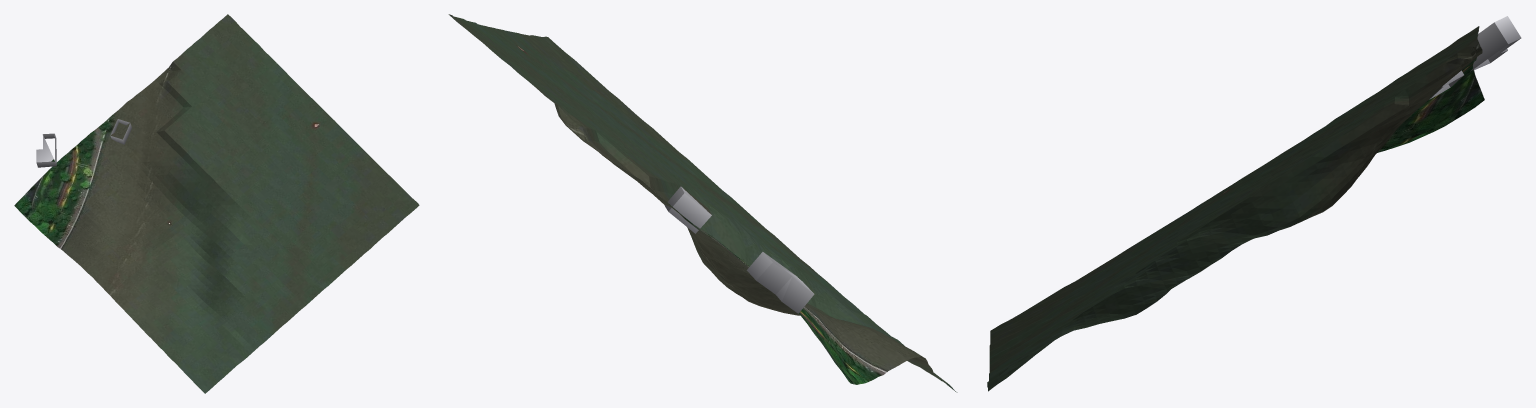
The picture shows the model from 3 angles, left to right: view 1: azimuth 30°, elevation 25°; view 2: azimuth 150°, elevation 25°; view 3: azimuth 270°, elevation 25°; orthographic projection. The views are drawn at different scales.
Size of the model in its own units: 294 by 253 by 241.
1 material, 1 textured.
